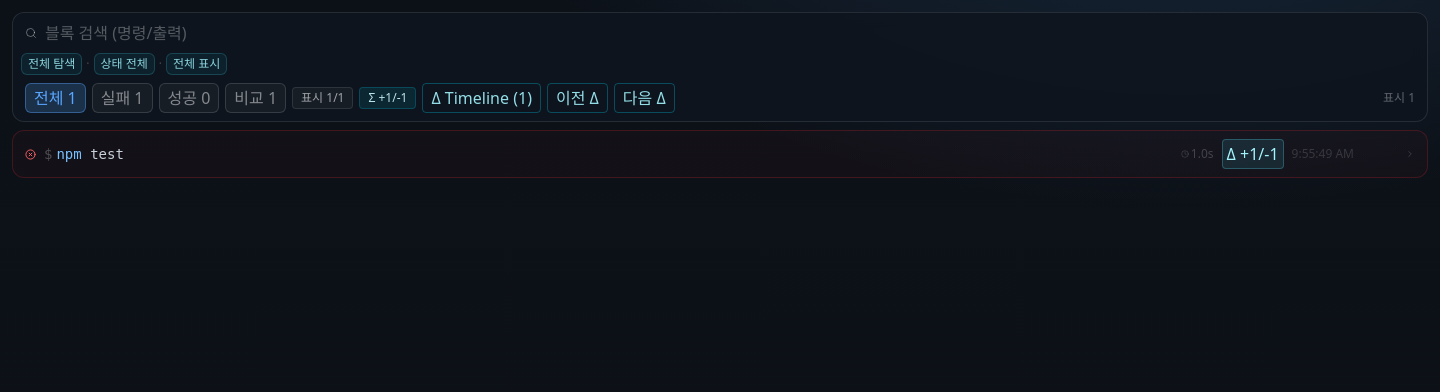
WarpListView delta actions › Δ 팝오버는 Escape로 닫힘
Click the button "Δ +1/-1" at (1252, 154), box [1222,139,1284,169]
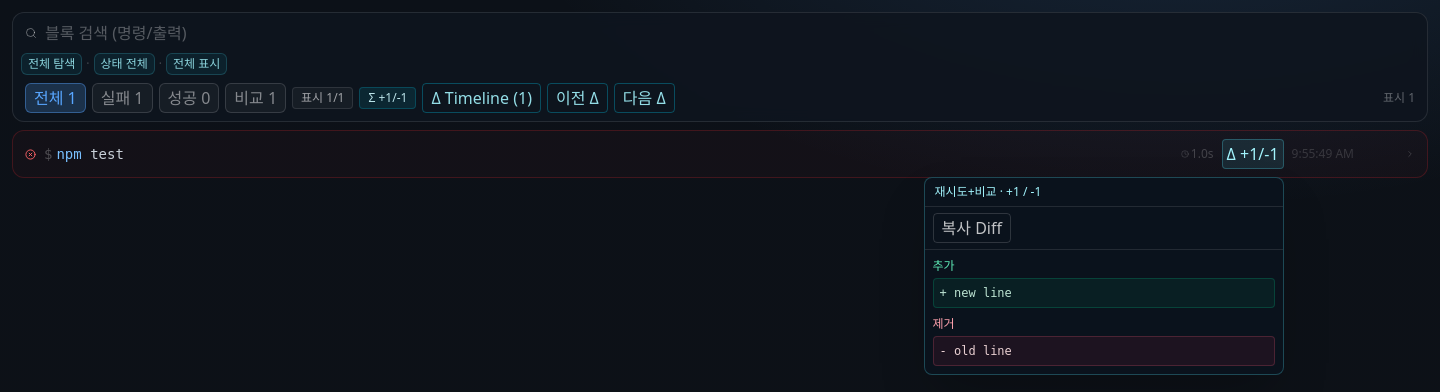
expect the text "재시도+비교 · +1 / -1" is shown: met, box [925,178,1283,207]
Press Escape
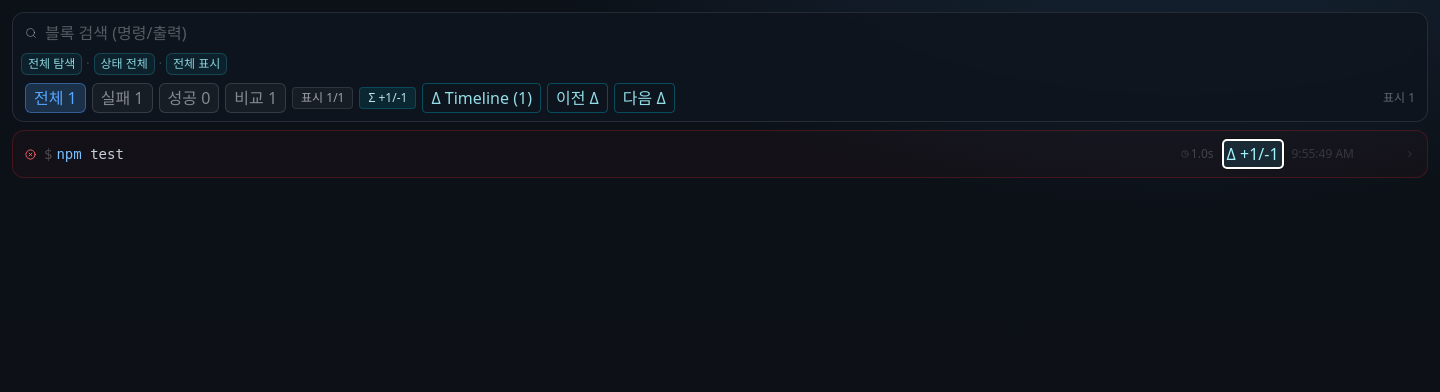
expect the text "재시도+비교" is gone: met
